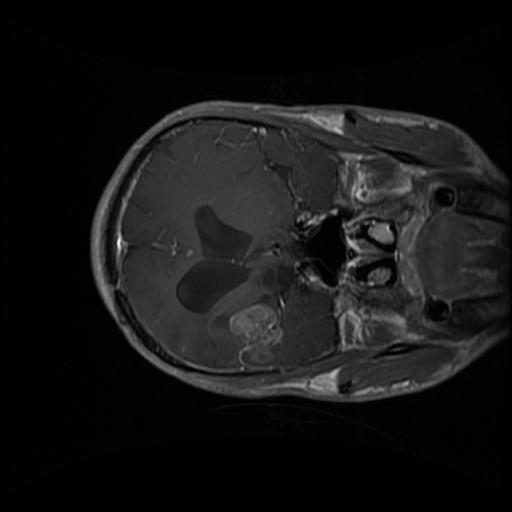glioma: (211, 269, 294, 362)
